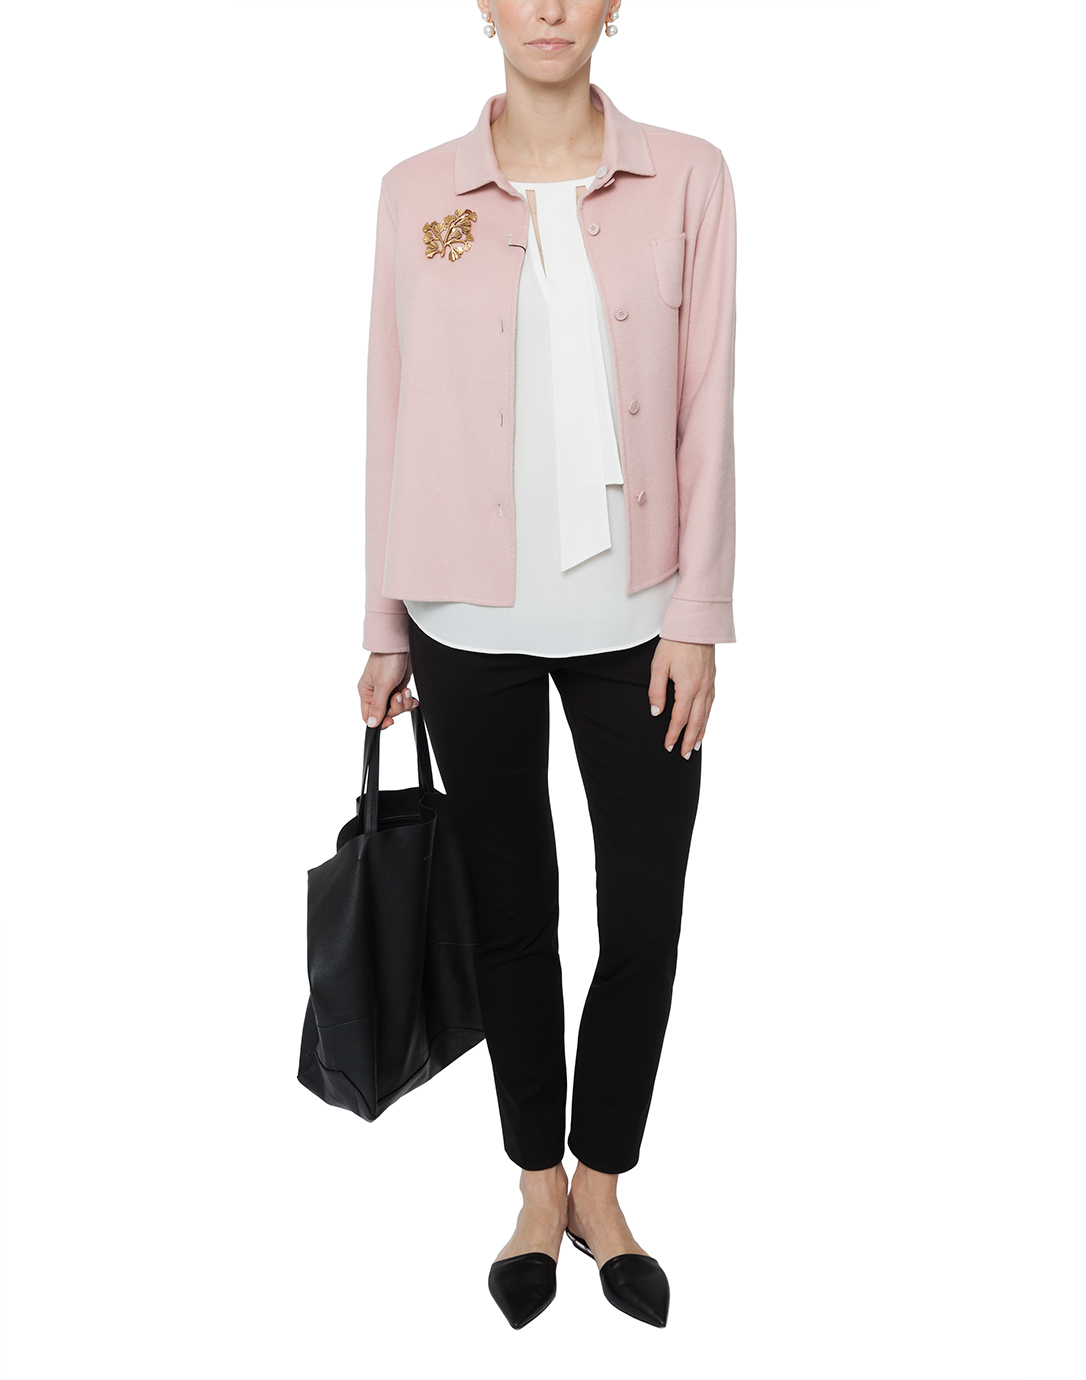outerwear: (352, 83, 738, 659)
pants: (381, 602, 712, 1164)
shoe: (569, 1199, 681, 1335)
